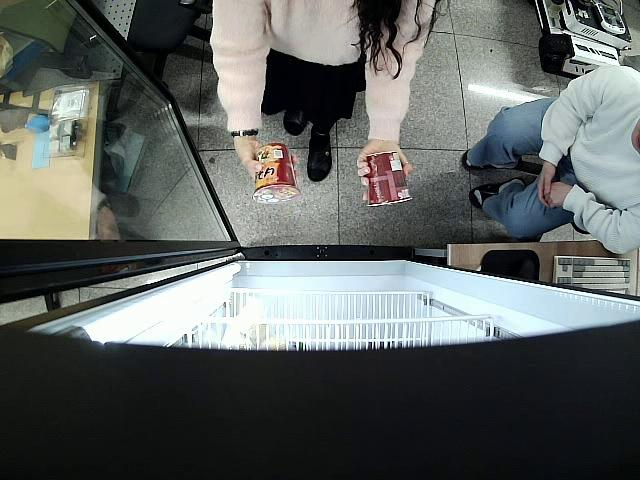00_hand: (356, 147, 413, 201), (235, 131, 301, 173)
06_nuguri_S: (249, 142, 301, 205), (364, 149, 411, 208)
